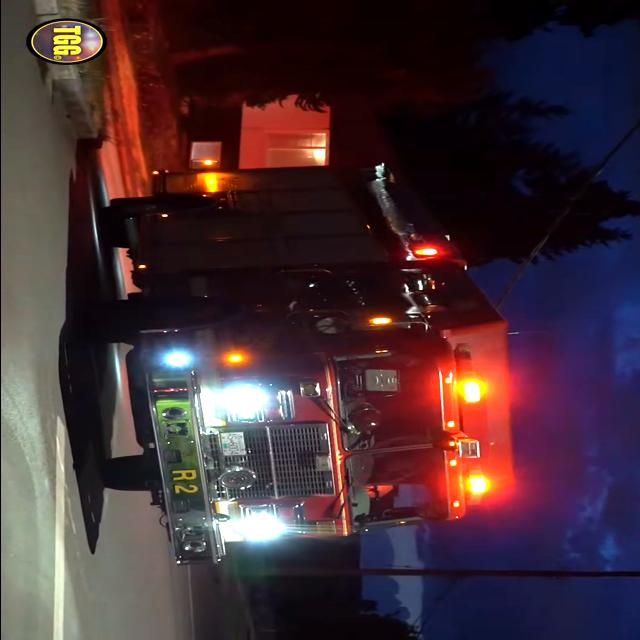emergency-vehicles: (84, 150, 526, 574)
